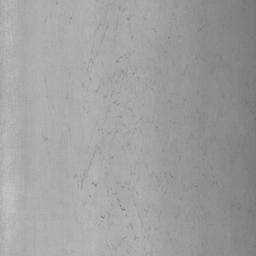Silk spot: (108, 70, 127, 83), (78, 170, 88, 190)
